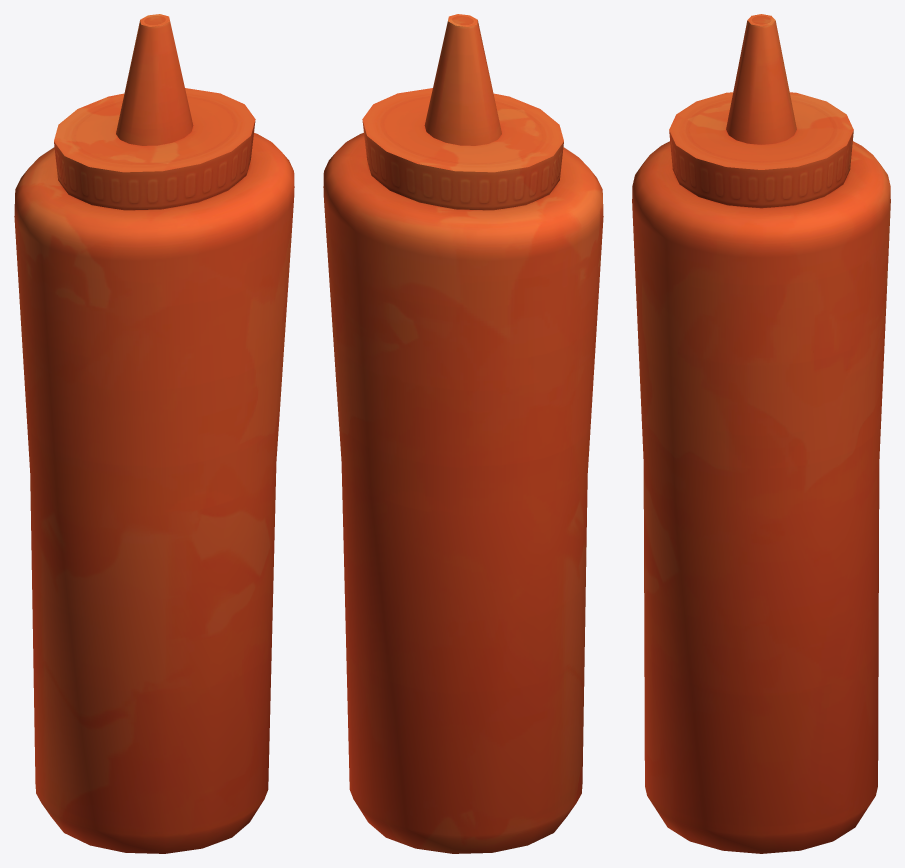
Rendered from SM_KetchupSqueezeBottle.glb.
The picture shows the model from 3 angles, left to right: view 1: azimuth 30°, elevation 25°; view 2: azimuth 150°, elevation 25°; view 3: azimuth 270°, elevation 25°; orthographic projection.
Visible parts, largest first — view 1: SM_KetchupSqueezeBottle; view 2: SM_KetchupSqueezeBottle; view 3: SM_KetchupSqueezeBottle.
Part boxes in pixels (x1,y1,x2,y2): SM_KetchupSqueezeBottle: [14, 14, 294, 853]; SM_KetchupSqueezeBottle: [323, 14, 603, 853]; SM_KetchupSqueezeBottle: [632, 14, 890, 853].
Size of the model in its own units: 0.1119 by 0.3387 by 0.1002.
Materials: 1 (1 with a texture image).
